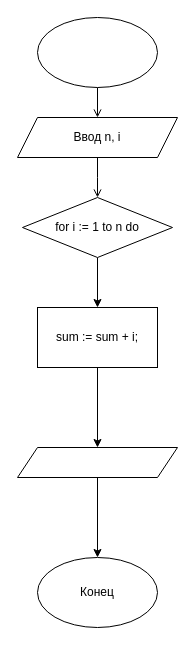
The diagram is 195 pixels wide and 645 high, and some of its shapes have lost their labels. The shapes that lost their labels are listed below. From the top down, each one's box as (x1, y1, x2, y2) in pixels, then its label:
(36, 16, 158, 88): Начало
(16, 446, 178, 478): Вывод n, sum
